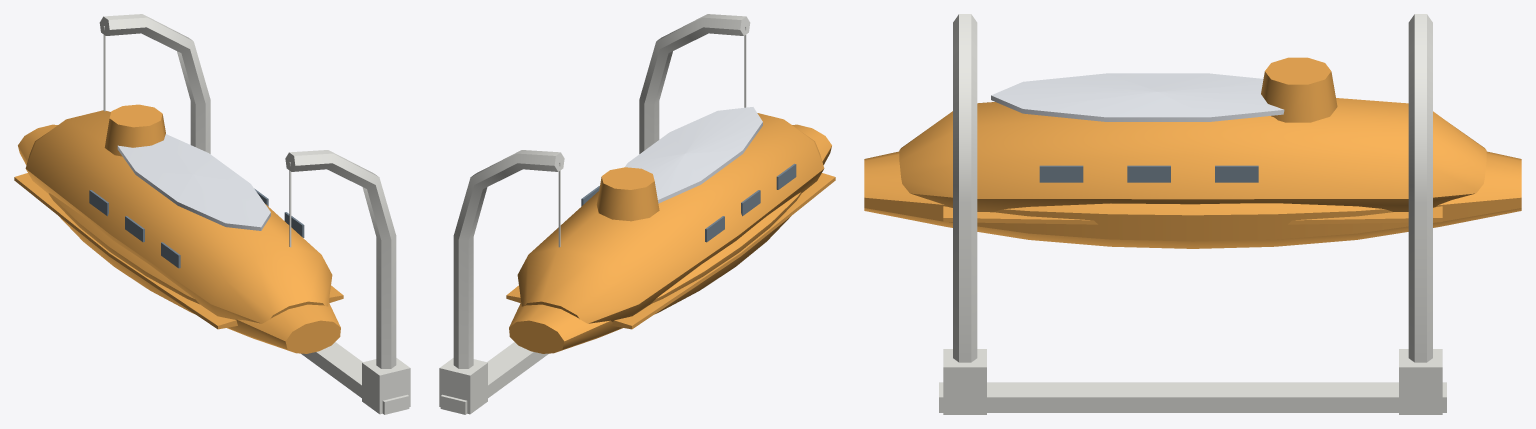
The model's file is lifeboat.glb.
3 views of the same model, side by side, from view 1: azimuth 30°, elevation 25°; view 2: azimuth 150°, elevation 25°; view 3: azimuth 270°, elevation 25° (orthographic). The views are drawn at different scales.
Visible parts, largest first — view 1: boat, lifeboat, snow, windows; view 2: boat, lifeboat, snow, windows; view 3: boat, lifeboat, snow, windows.
Part boxes in pixels (x1=…): boat: x1=14, y1=104, x2=343, y2=353; lifeboat: x1=99, y1=14, x2=410, y2=414; snow: x1=117, y1=134, x2=270, y2=230; windows: x1=89, y1=188, x2=304, y2=268; boat: x1=506, y1=113, x2=835, y2=353; lifeboat: x1=439, y1=14, x2=750, y2=414; snow: x1=625, y1=107, x2=762, y2=203; windows: x1=581, y1=163, x2=796, y2=242; boat: x1=864, y1=57, x2=1521, y2=248; lifeboat: x1=939, y1=14, x2=1446, y2=414; snow: x1=991, y1=73, x2=1284, y2=121; windows: x1=1039, y1=165, x2=1258, y2=182.
Bounding box in the file's own units: 3.23 × 4.22 × 7.5.
